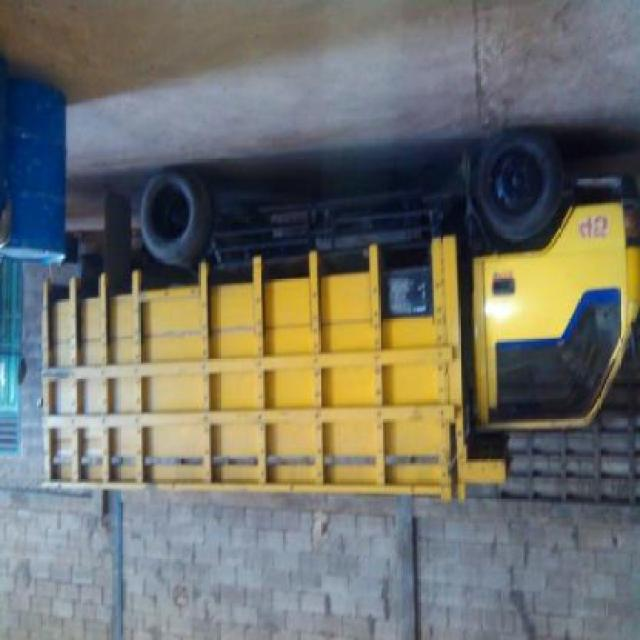truck: (37, 137, 640, 497)
